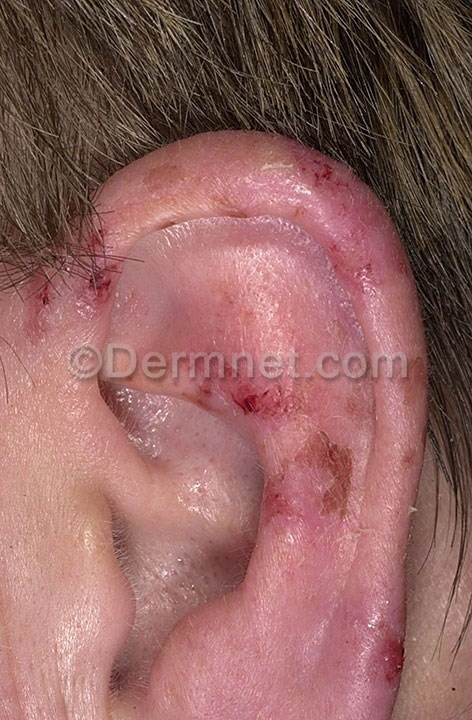Melasma: (6, 146, 461, 720)
